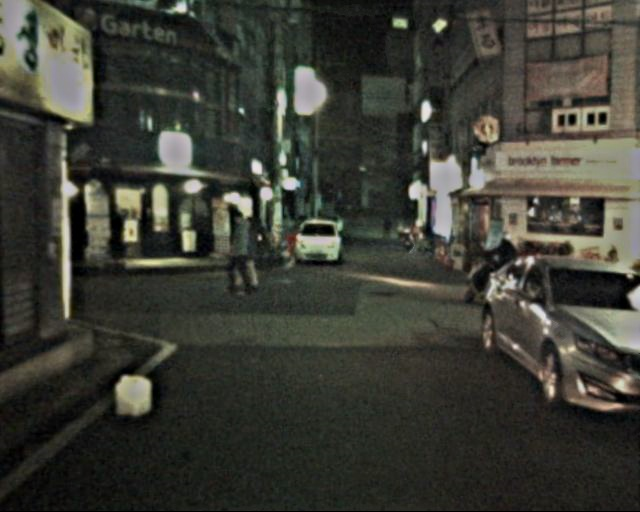person: (223, 212, 259, 299), (490, 232, 521, 304)
